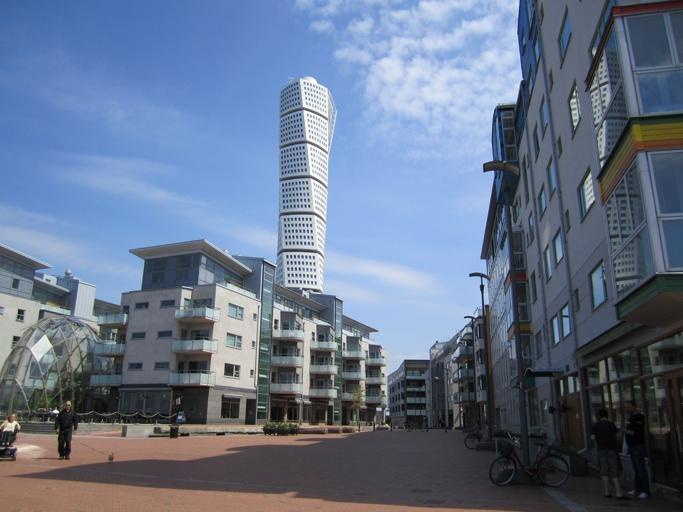non-vehicle: (487, 430, 569, 487), (461, 419, 502, 449)
